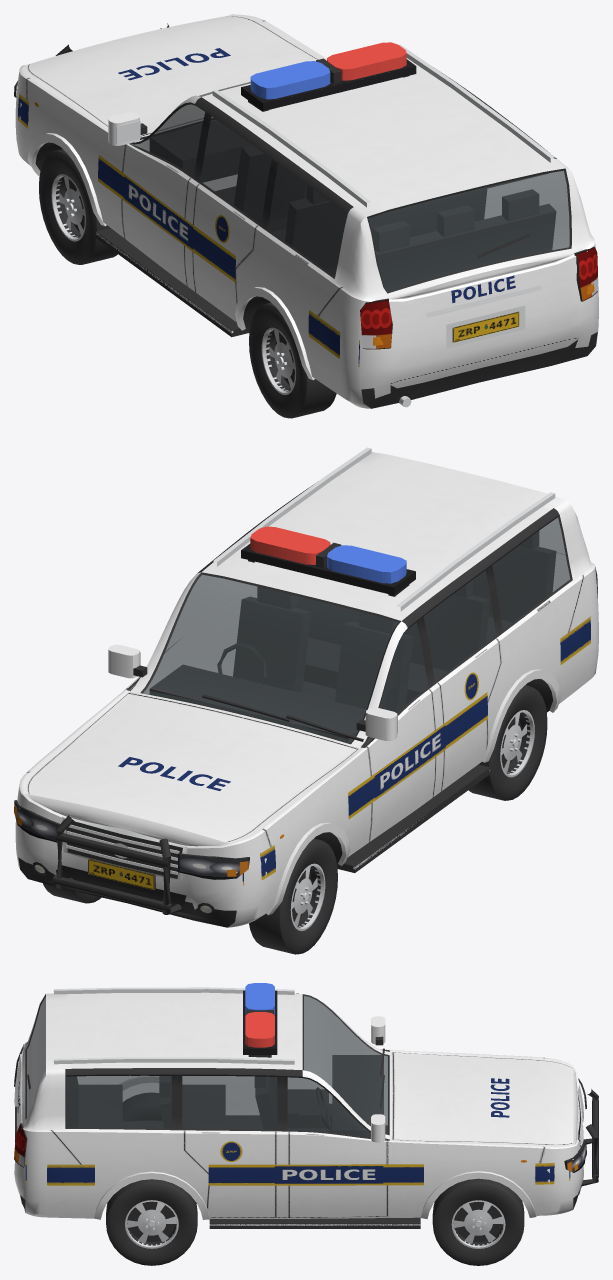
File: police_landcruiser.glb
The picture shows the model from 3 angles, top to bottom: view 1: azimuth 30°, elevation 25°; view 2: azimuth 150°, elevation 25°; view 3: azimuth 270°, elevation 25°; orthographic projection. The views are drawn at different scales.
Visible parts, largest first — view 1: body, wheel_rl_mesh, wheel_fl_mesh; view 2: body, wheel_fl_mesh, wheel_rl_mesh; view 3: body, wheel_fr_mesh, wheel_rr_mesh, wheel_rl_mesh.
Part boxes in pixels (bbox=[...]): body: bbox=[14, 14, 598, 408]; wheel_rl_mesh: bbox=[249, 303, 336, 418]; wheel_fl_mesh: bbox=[39, 149, 117, 264]; body: bbox=[14, 447, 598, 927]; wheel_fl_mesh: bbox=[249, 838, 337, 954]; wheel_rl_mesh: bbox=[468, 685, 547, 800]; body: bbox=[14, 983, 598, 1228]; wheel_fr_mesh: bbox=[432, 1178, 524, 1265]; wheel_rr_mesh: bbox=[106, 1179, 197, 1265]; wheel_rl_mesh: bbox=[123, 1092, 161, 1121].
Bounding box in the file's own units: 2.24 × 2.02 × 5.1.
Materials: 14 (6 with a texture image).
